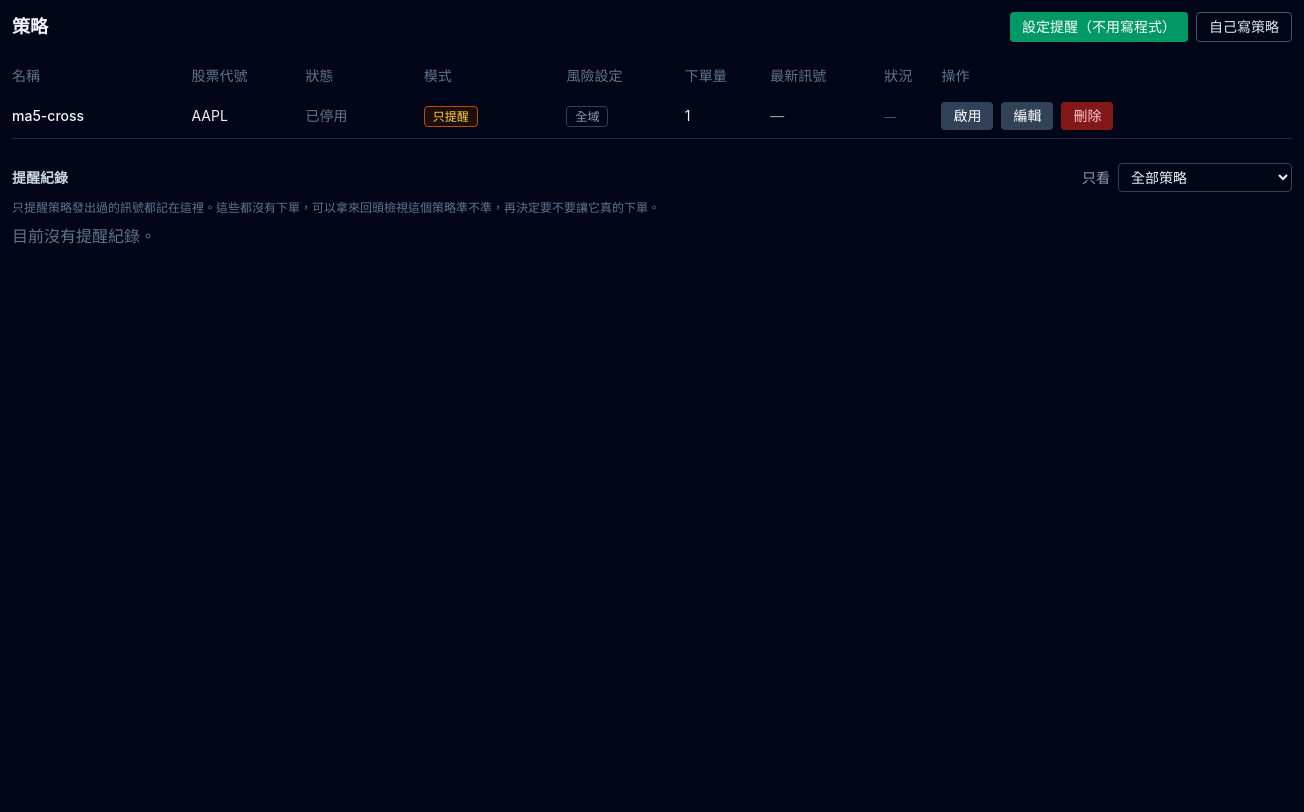
StrategiesPage › shows the edit form already ticked for a watch-only strategy
Expected: the text "ma5-cross" is shown, [12,94,192,138]
Click the button "編輯" at (1027, 116), box [1001,102,1053,130]
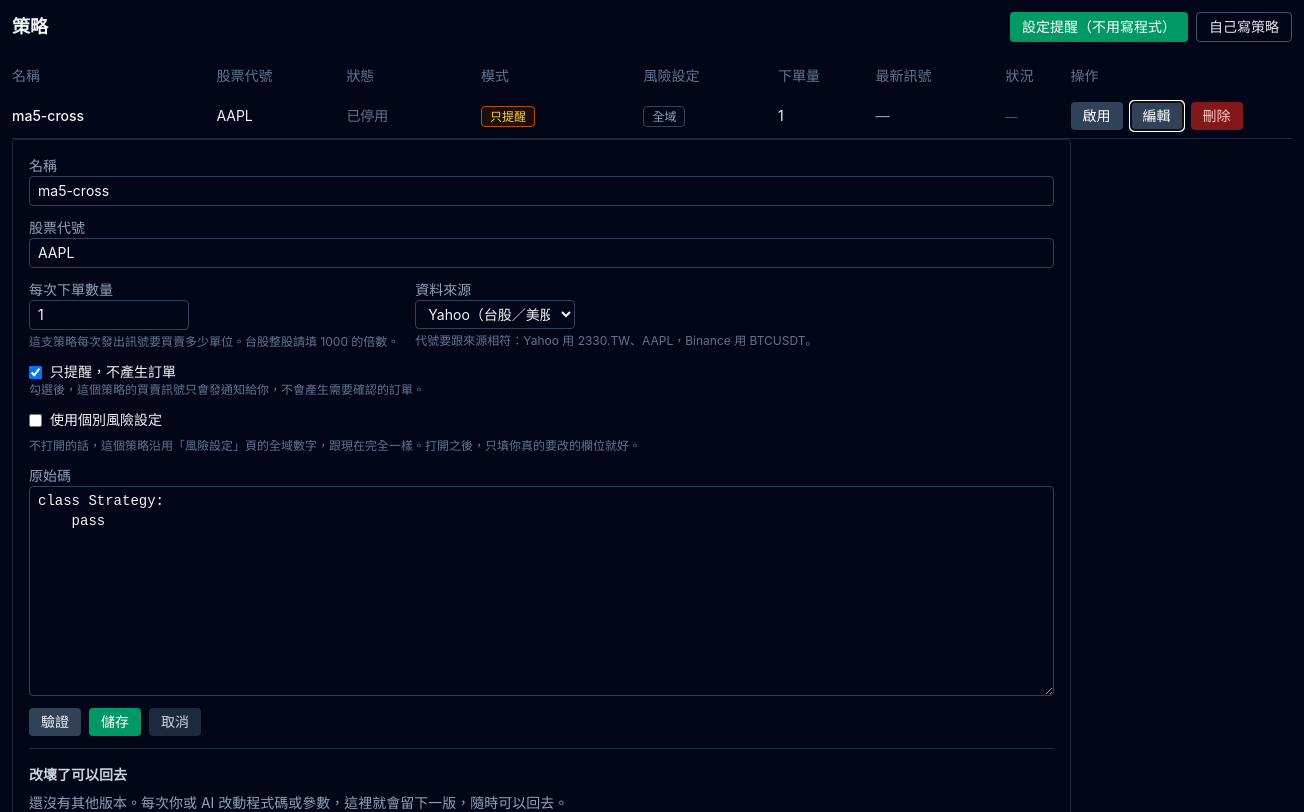
Now the checkbox labelled "只提醒，不產生訂單" is checked, box [29,366,42,378]
